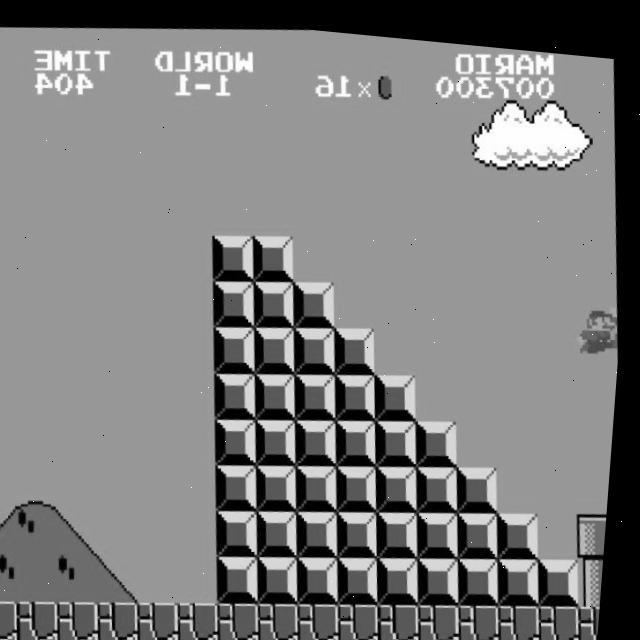11- little_mario: (577, 289, 624, 343)
14- pipe: (582, 544, 611, 594)
15- pipe_head: (581, 498, 614, 549)
17- undestructible_block: (543, 590, 591, 640), (503, 591, 551, 640), (463, 591, 511, 640), (423, 592, 471, 640), (383, 592, 431, 640), (343, 593, 391, 640), (303, 593, 351, 640), (263, 594, 311, 640), (223, 594, 271, 640), (183, 595, 231, 640), (143, 595, 191, 640), (63, 596, 111, 640), (103, 596, 150, 640), (23, 597, 71, 640), (0, 597, 29, 640), (584, 590, 608, 640), (546, 636, 591, 640), (506, 637, 550, 640), (466, 637, 510, 640), (586, 635, 606, 640), (345, 638, 390, 640), (426, 638, 470, 640), (386, 638, 430, 640), (306, 639, 350, 640), (266, 639, 310, 640), (226, 640, 270, 640), (186, 640, 230, 640), (146, 640, 190, 640)
9- hard_block: (500, 499, 548, 552), (502, 544, 550, 597), (422, 545, 470, 598), (335, 317, 383, 370), (341, 546, 389, 599), (298, 409, 346, 462), (255, 318, 303, 371), (217, 410, 265, 463), (542, 544, 590, 596), (461, 500, 509, 552), (418, 408, 466, 460), (419, 454, 467, 506), (376, 363, 424, 415), (380, 501, 428, 553), (382, 546, 430, 598), (338, 409, 386, 461), (339, 455, 387, 507), (340, 501, 388, 553), (294, 272, 342, 324), (295, 318, 343, 370), (296, 364, 344, 416), (300, 502, 348, 554), (302, 547, 350, 599), (252, 227, 300, 279), (253, 273, 301, 325), (259, 456, 307, 508), (260, 502, 308, 554), (214, 273, 262, 325), (216, 365, 264, 417), (220, 503, 268, 555), (221, 548, 269, 600), (421, 500, 468, 553), (378, 408, 425, 461), (262, 547, 309, 600), (459, 454, 507, 505), (379, 455, 427, 506), (336, 364, 384, 415), (299, 456, 347, 507), (256, 365, 304, 416), (212, 228, 260, 279), (462, 545, 509, 597), (258, 410, 305, 462), (215, 319, 262, 371), (219, 457, 266, 508)
